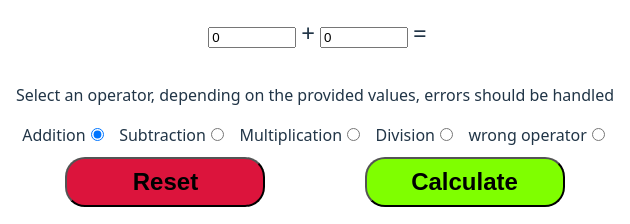
Test: CalculateForm Test › Multiplications › UI should have a multiplication symbol
Click the radio button with id "multiplication". click: (354, 134)
box: 347,128 -> 360,141
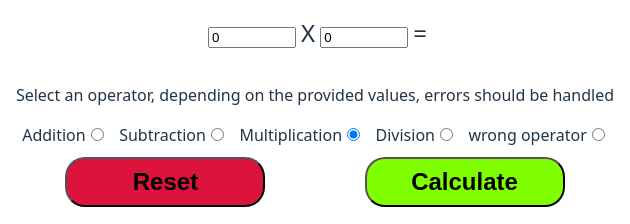
Check: the text with id "operatorSymbol" reads "X", box 301,16 -> 315,49
